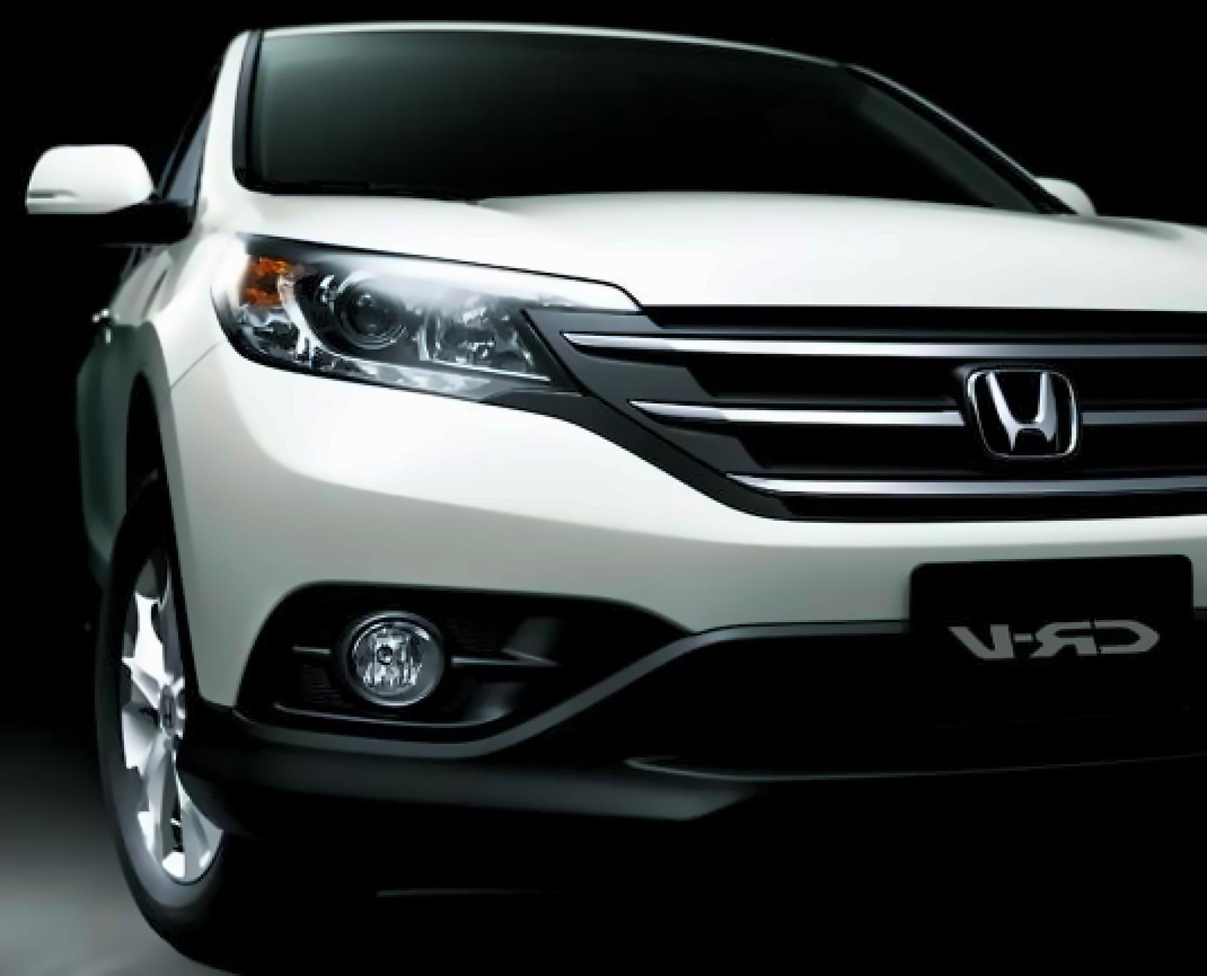Car hood: (238, 184, 1207, 319)
Fender - -F-R-: (119, 191, 255, 528)
Front bumper: (154, 340, 1207, 867)
Headlight - -R-: (204, 221, 655, 413)
Side mirror - -L-: (1022, 157, 1104, 226)
Side mirror - -R-: (18, 134, 206, 260)
